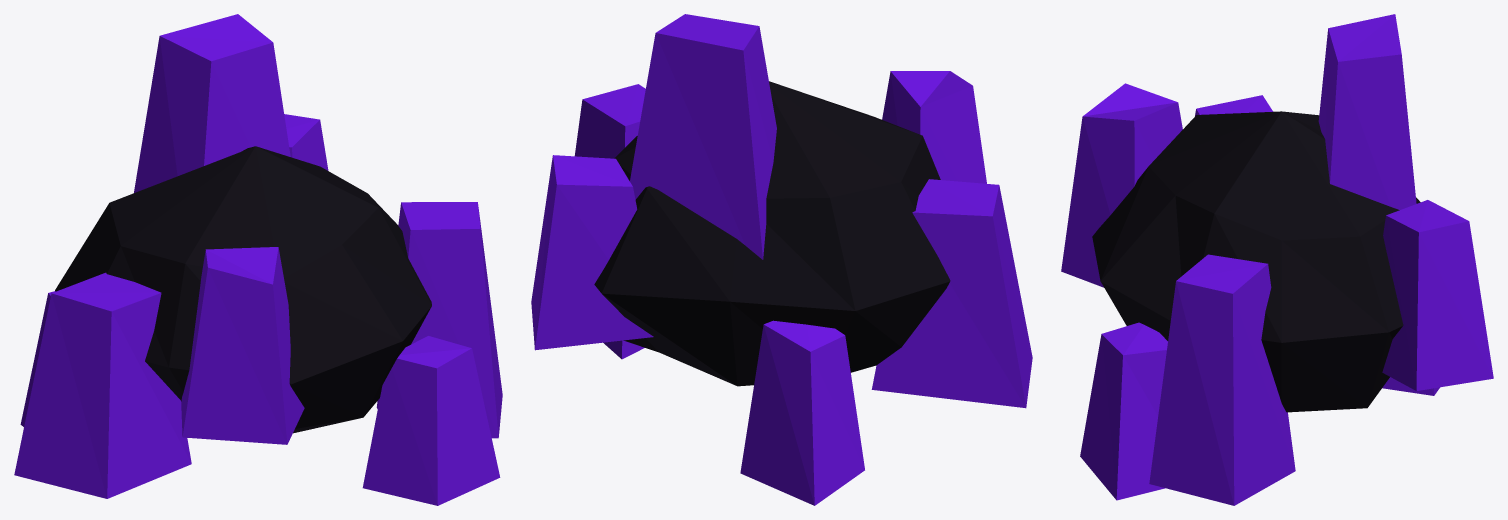
Rendered from dark_stone.obj.
3 renders of one model, left to right at view 1: azimuth 30°, elevation 25°; view 2: azimuth 150°, elevation 25°; view 3: azimuth 270°, elevation 25°, orthographic. The views are drawn at different scales.
Visible parts, largest first — view 1: Body, GlowShard_01, GlowShard_04, GlowShard_03, GlowShard_07, GlowShard_02, GlowShard_05, GlowShard_06; view 2: Body, GlowShard_03, GlowShard_01, GlowShard_06, GlowShard_05, GlowShard_04, GlowShard_02; view 3: Body, GlowShard_02, GlowShard_05, GlowShard_03, GlowShard_04, GlowShard_07, GlowShard_01.
Boxes of the visible parts, x1=… form: Body: x1=55, y1=146, x2=431, y2=433; GlowShard_01: x1=14, y1=272, x2=191, y2=498; GlowShard_04: x1=181, y1=247, x2=304, y2=444; GlowShard_03: x1=134, y1=14, x2=290, y2=192; GlowShard_07: x1=362, y1=336, x2=500, y2=505; GlowShard_02: x1=376, y1=202, x2=502, y2=438; GlowShard_05: x1=284, y1=114, x2=328, y2=170; GlowShard_06: x1=20, y1=291, x2=55, y2=426; Body: x1=594, y1=81, x2=950, y2=386; GlowShard_03: x1=630, y1=14, x2=776, y2=259; GlowShard_01: x1=871, y1=179, x2=1032, y2=408; GlowShard_06: x1=740, y1=320, x2=864, y2=505; GlowShard_05: x1=531, y1=155, x2=653, y2=350; GlowShard_04: x1=882, y1=71, x2=986, y2=183; GlowShard_02: x1=574, y1=84, x2=645, y2=359; Body: x1=1092, y1=111, x2=1420, y2=412; GlowShard_02: x1=1149, y1=254, x2=1295, y2=505; GlowShard_05: x1=1382, y1=200, x2=1493, y2=390; GlowShard_03: x1=1318, y1=14, x2=1416, y2=209; GlowShard_04: x1=1061, y1=83, x2=1182, y2=287; GlowShard_07: x1=1080, y1=322, x2=1167, y2=500; GlowShard_01: x1=1195, y1=95, x2=1272, y2=115.
Bounding box in the file's own units: 2.61 × 2.06 × 2.07.
